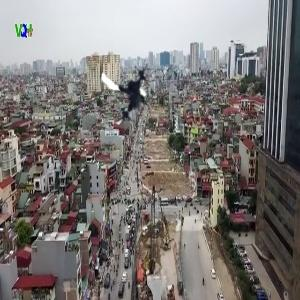drone: (89, 50, 165, 126)
